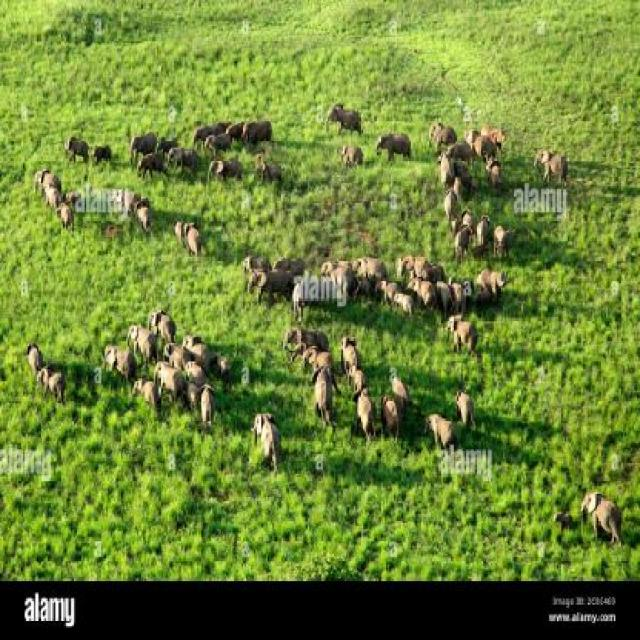elephant: (574, 482, 624, 547), (422, 410, 466, 461), (251, 414, 287, 472), (436, 306, 481, 349), (118, 378, 167, 416), (244, 271, 302, 303), (532, 139, 570, 187), (348, 384, 378, 444), (376, 120, 413, 168), (321, 253, 362, 296), (198, 156, 242, 196), (163, 143, 208, 180), (454, 127, 498, 164), (135, 365, 180, 401), (240, 109, 283, 145), (316, 98, 367, 128), (258, 150, 290, 195), (469, 211, 496, 264), (310, 371, 338, 422), (176, 327, 216, 362), (370, 393, 398, 442), (546, 499, 583, 536), (126, 200, 165, 235), (117, 321, 158, 354), (328, 145, 366, 180), (268, 248, 307, 282), (428, 108, 458, 152), (343, 316, 365, 376), (57, 128, 89, 166), (184, 207, 208, 256), (286, 319, 328, 347), (242, 249, 272, 288), (146, 120, 180, 154), (32, 356, 63, 393), (343, 363, 380, 394), (151, 307, 184, 341), (475, 116, 508, 150), (102, 342, 130, 380), (193, 378, 218, 420), (292, 345, 338, 367), (399, 275, 427, 311), (450, 383, 478, 419), (492, 213, 513, 259), (105, 188, 142, 214), (353, 252, 389, 278), (126, 126, 163, 151), (390, 363, 412, 405), (470, 263, 510, 286), (212, 345, 236, 383), (476, 155, 512, 180), (440, 167, 471, 196), (432, 148, 460, 180), (31, 165, 68, 189), (152, 342, 188, 366), (439, 278, 478, 300), (52, 200, 76, 235), (185, 122, 220, 146), (444, 218, 468, 253), (392, 282, 416, 316), (188, 354, 203, 408), (217, 114, 248, 140), (394, 246, 424, 272), (47, 374, 71, 404), (62, 182, 90, 207), (458, 202, 476, 240), (134, 155, 166, 176), (424, 281, 448, 308), (24, 335, 41, 371), (372, 269, 390, 303), (93, 142, 118, 166), (44, 183, 62, 214), (443, 178, 454, 228), (168, 208, 181, 250), (200, 138, 240, 150), (425, 256, 447, 275)
